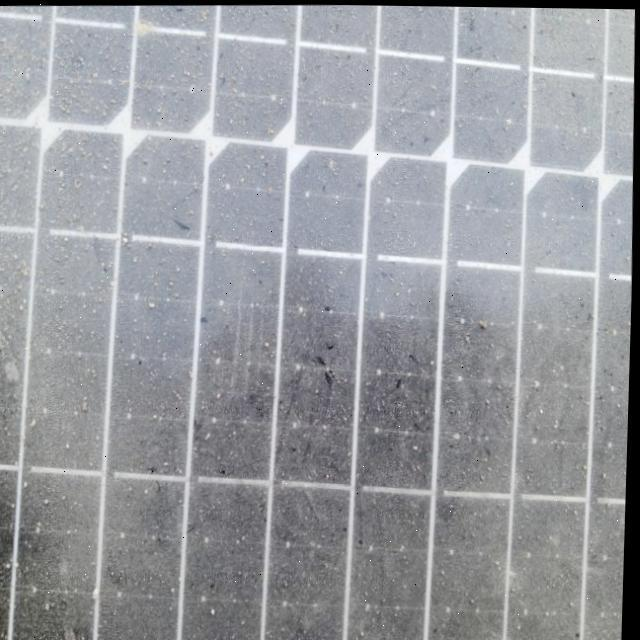Surface Contaminant: (0, 27, 618, 640)
